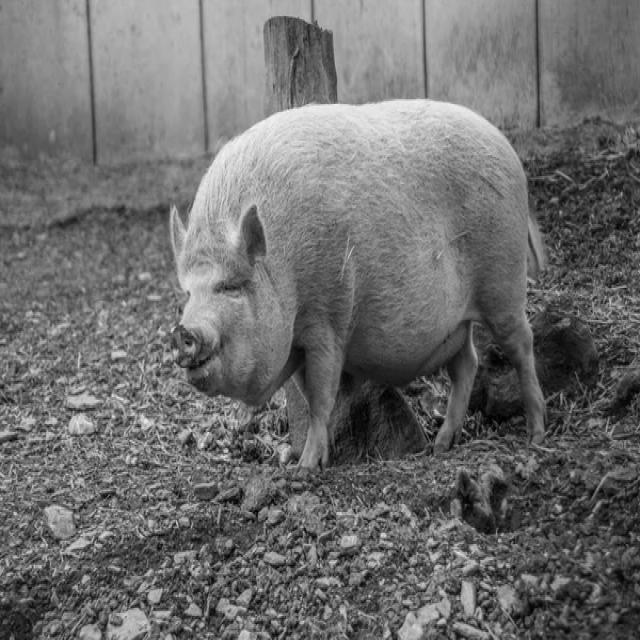Animal: (171, 99, 547, 468)
